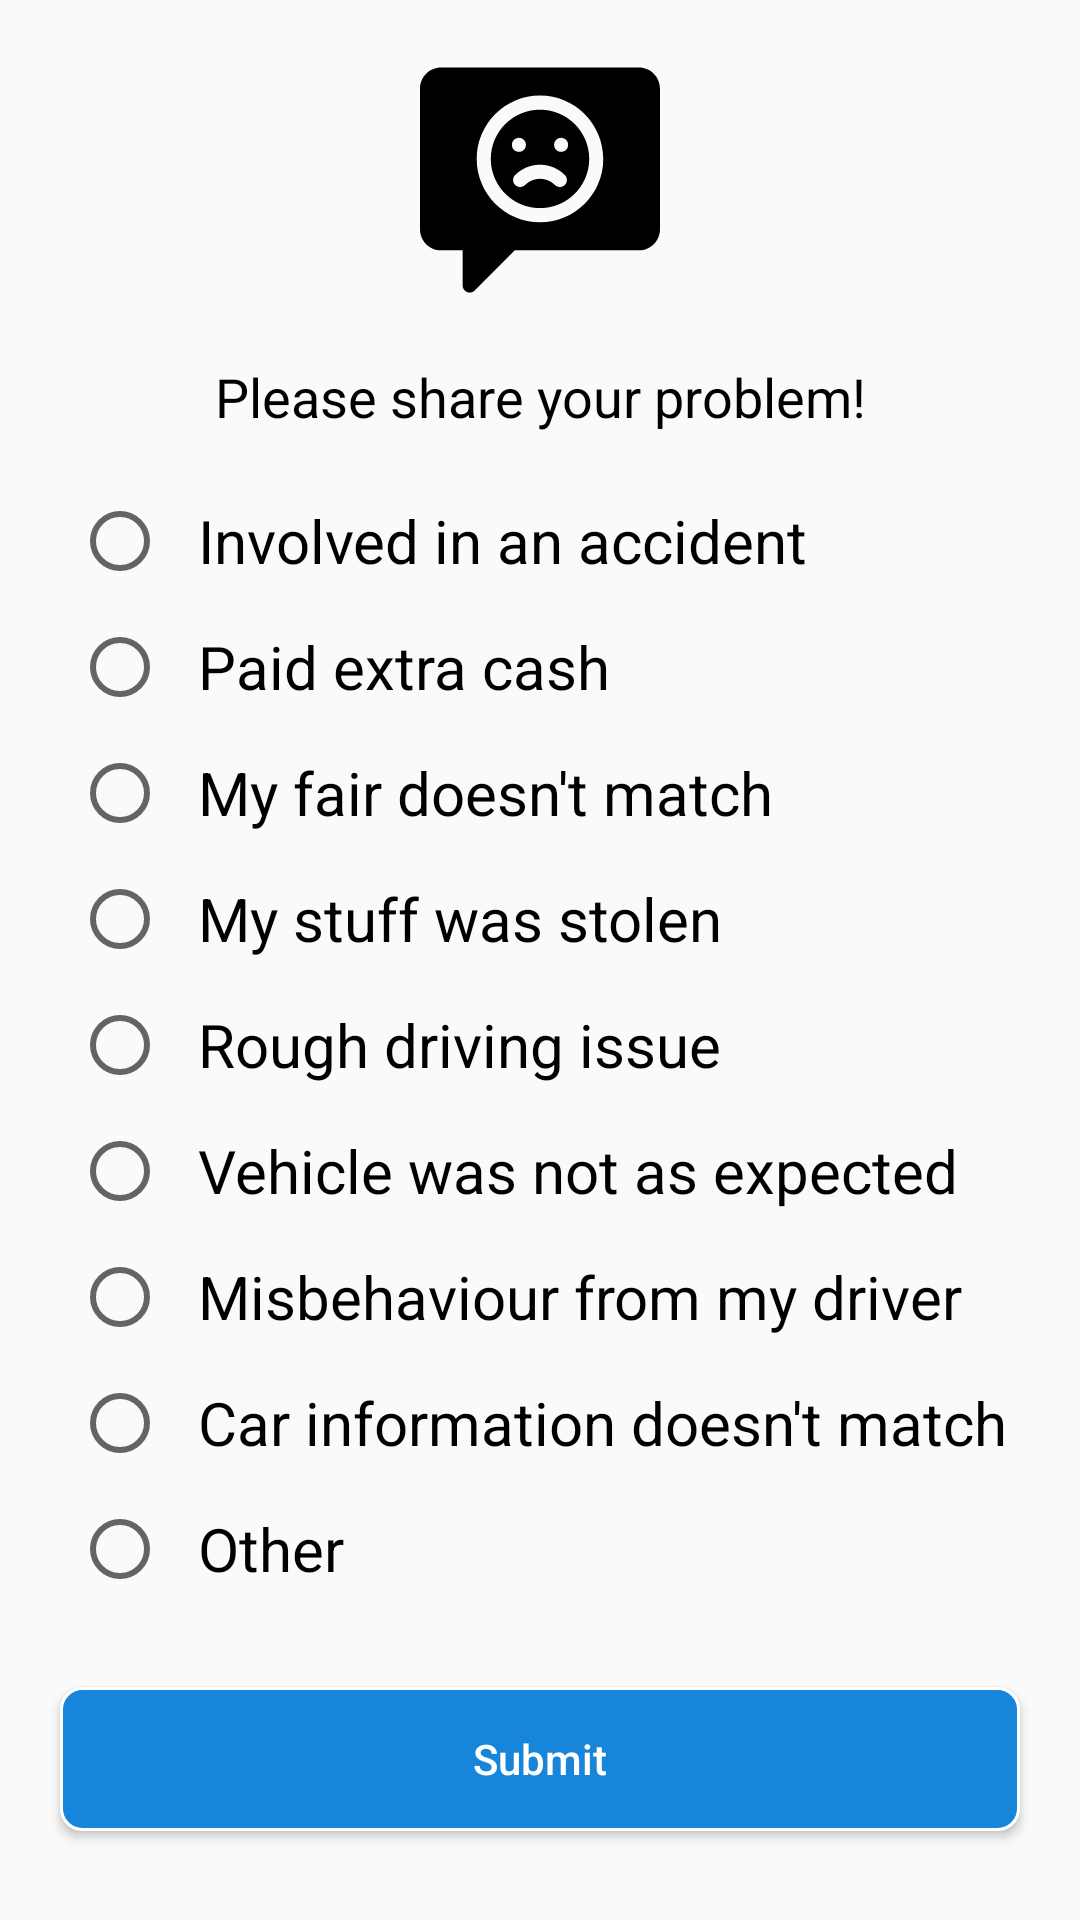

Screen size 1080×1920. Icon name, then its center in pixels as (x,y):
bad review: (540,180)
